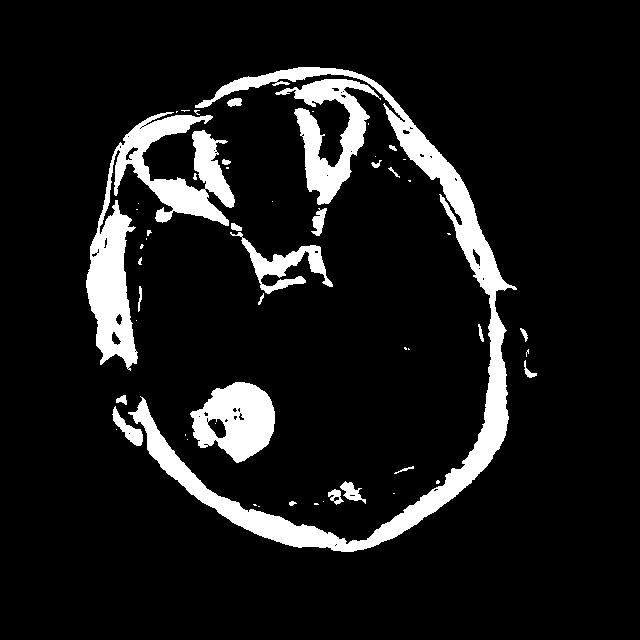Brain-Tumor: (186, 374, 290, 466)
eye: (118, 104, 257, 248), (285, 73, 383, 238)
